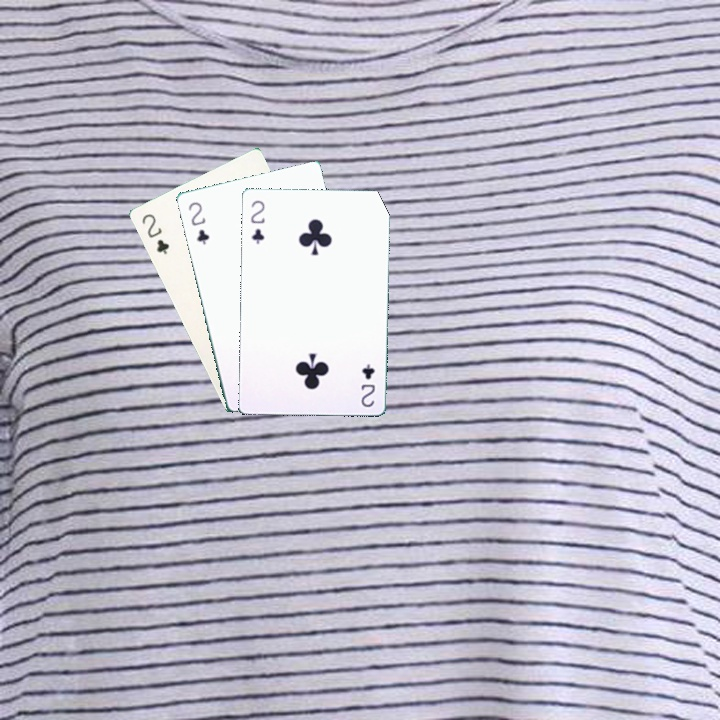2c: (138, 209, 172, 257), (184, 198, 212, 247), (246, 196, 267, 247), (357, 360, 377, 409)
